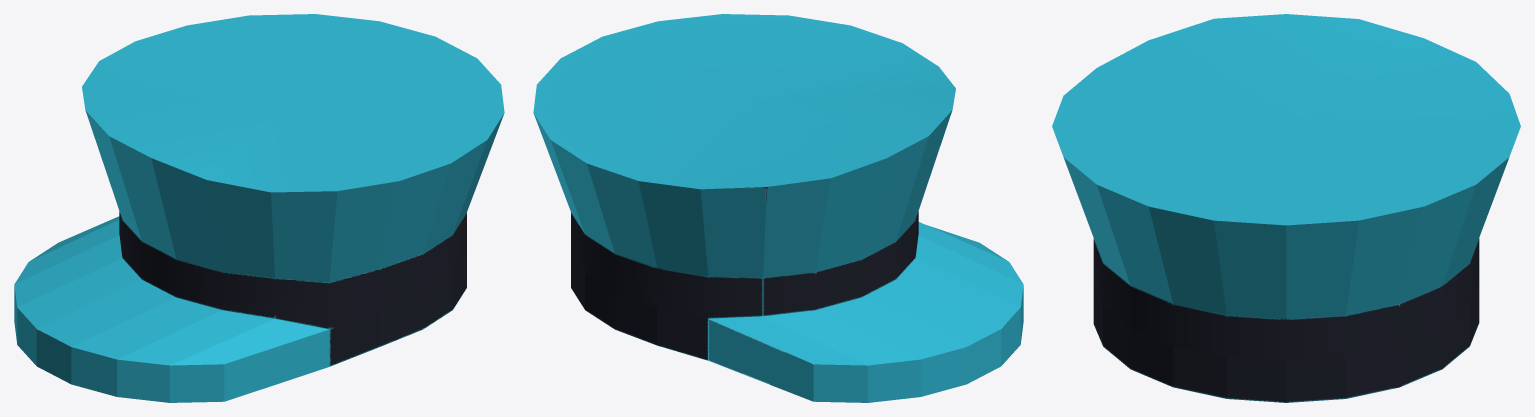
The model's file is hat police 2.fbx.
3 views of the same model, side by side, from view 1: azimuth 30°, elevation 25°; view 2: azimuth 150°, elevation 25°; view 3: azimuth 270°, elevation 25° (orthographic). The views are drawn at different scales.
Visible parts, largest first — view 1: pCylinder5; view 2: pCylinder5; view 3: pCylinder5.
Part boxes in pixels (<box>): pCylinder5: <box>14,14,504,402</box>; pCylinder5: <box>533,14,1023,402</box>; pCylinder5: <box>1052,14,1520,402</box>.
Size of the model in its own units: 2.91 by 1.34 by 2.43.
